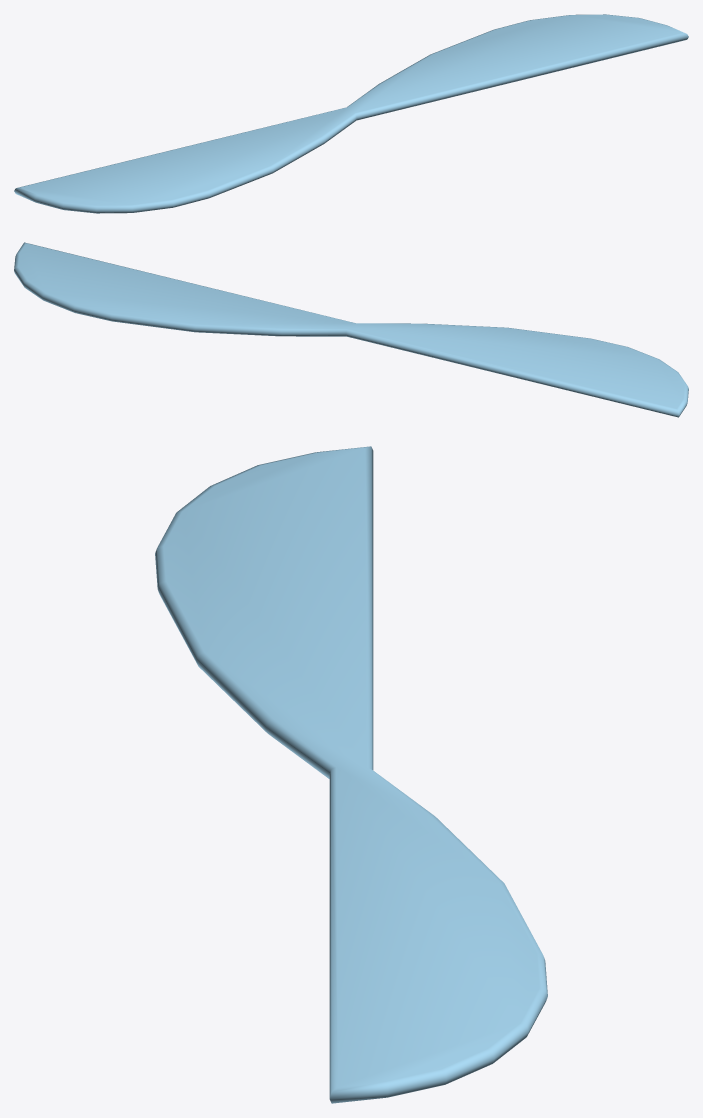
The model's file is vertoball_propeller.fbx.
3 renders of one model, top to bottom at view 1: azimuth 30°, elevation 25°; view 2: azimuth 150°, elevation 25°; view 3: azimuth 270°, elevation 25°, orthographic. The views are drawn at different scales.
Visible parts, largest first — view 1: propeller; view 2: propeller; view 3: propeller.
Part boxes in pixels (x1=…): propeller: x1=14, y1=14, x2=688, y2=213; propeller: x1=14, y1=242, x2=688, y2=417; propeller: x1=155, y1=446, x2=547, y2=1103.
Size of the model in its own units: 210 by 2.33 by 53.73.
